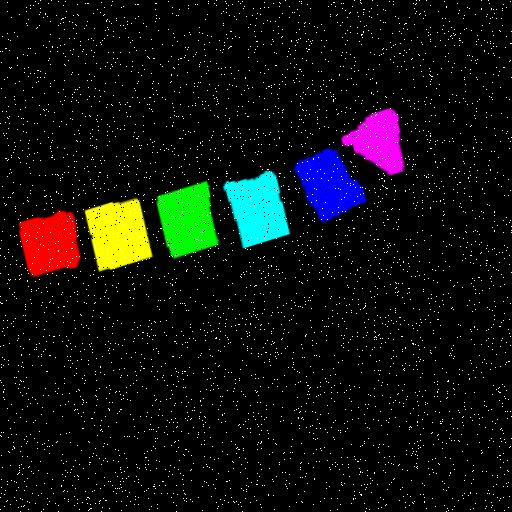L1: (25, 208, 86, 275)
L2: (88, 197, 157, 269)
L3: (160, 179, 222, 257)
L4: (227, 168, 294, 246)
L5: (297, 148, 369, 219)
S1: (343, 107, 408, 172)
